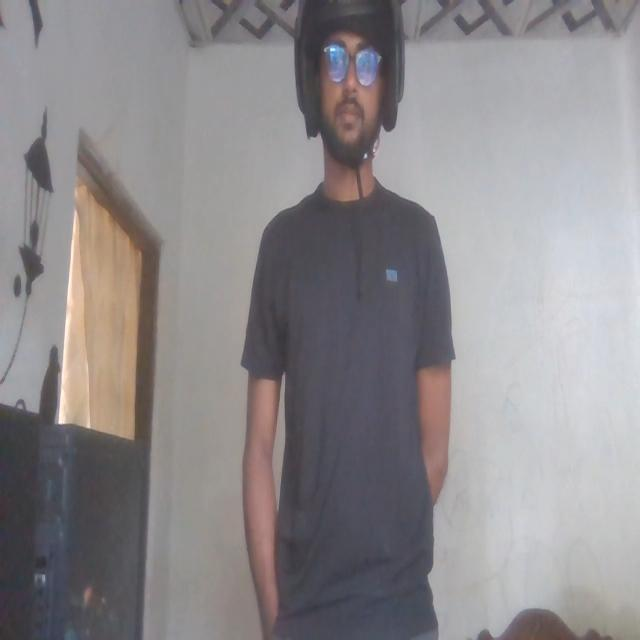Helmet_Wearer: (280, 0, 411, 205)
Person: (238, 7, 458, 640)
